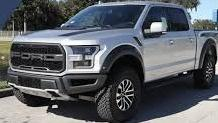Trucks: (8, 2, 218, 121)
